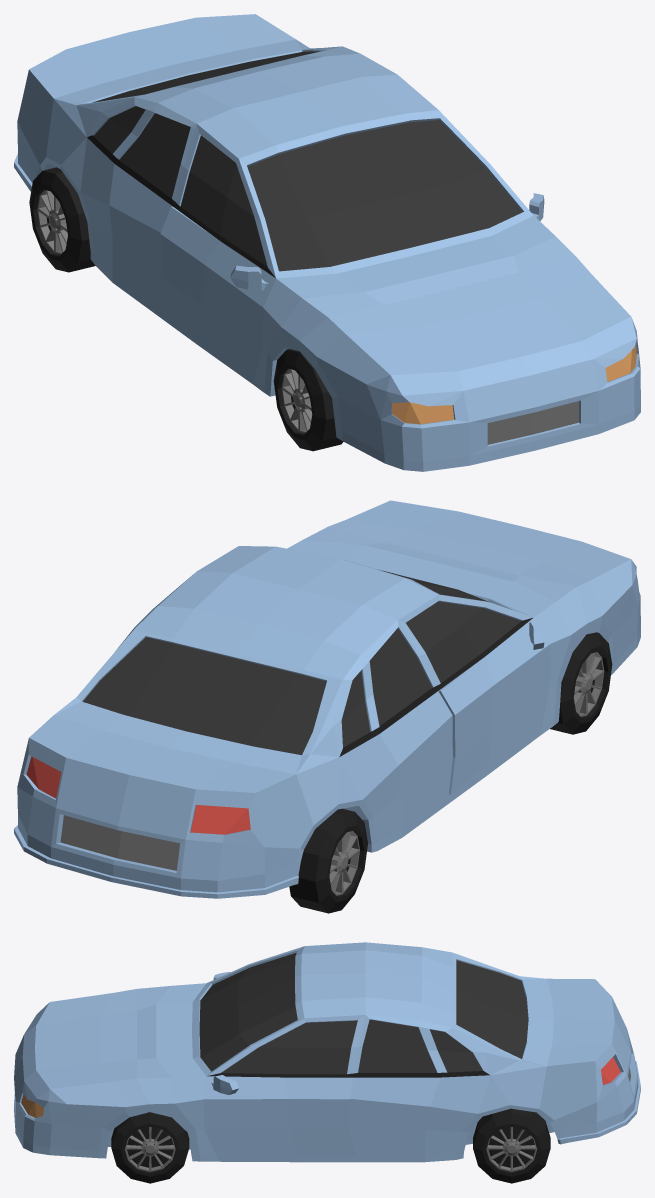
The model's file is NormalCar1_Car.fbx.
3 views of the same model, one above another, from view 1: azimuth 30°, elevation 25°; view 2: azimuth 150°, elevation 25°; view 3: azimuth 270°, elevation 25° (orthographic). The views are drawn at different scales.
Visible parts, largest first — view 1: NormalCar1, NormalCar1_BackRightWheel, NormalCar1_FrontRightWheel; view 2: NormalCar1, NormalCar1_BackRightWheel, NormalCar1_FrontRightWheel; view 3: NormalCar1, NormalCar1_BackLeftWheel, NormalCar1_FrontLeftWheel.
Part boxes in pixels (left/top/right/bottom): NormalCar1: left=14, top=14, right=640, bottom=471; NormalCar1_BackRightWheel: left=29, top=167, right=95, bottom=272; NormalCar1_FrontRightWheel: left=273, top=349, right=343, bottom=451; NormalCar1: left=14, top=500, right=640, bottom=898; NormalCar1_BackRightWheel: left=289, top=808, right=367, bottom=913; NormalCar1_FrontRightWheel: left=550, top=632, right=612, bottom=734; NormalCar1: left=14, top=942, right=640, bottom=1162; NormalCar1_BackLeftWheel: left=473, top=1108, right=550, bottom=1183; NormalCar1_FrontLeftWheel: left=111, top=1112, right=189, bottom=1183.
Bounding box in the file's own units: 181 × 118 × 422.
